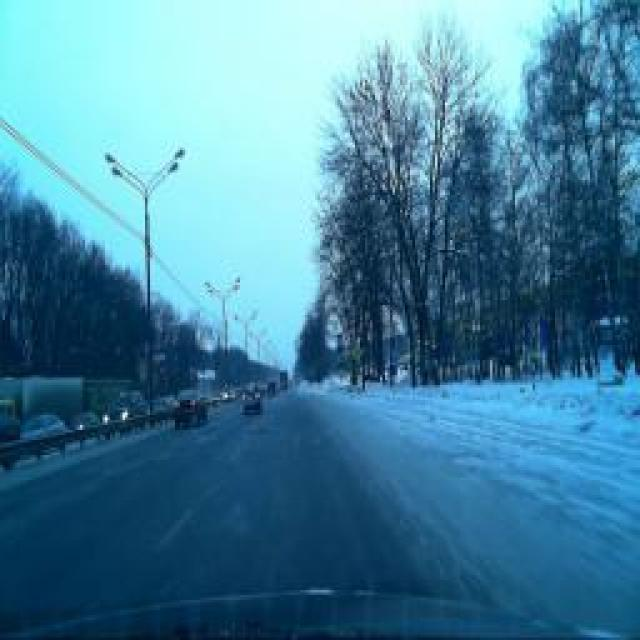sign: (351, 344, 361, 361)
